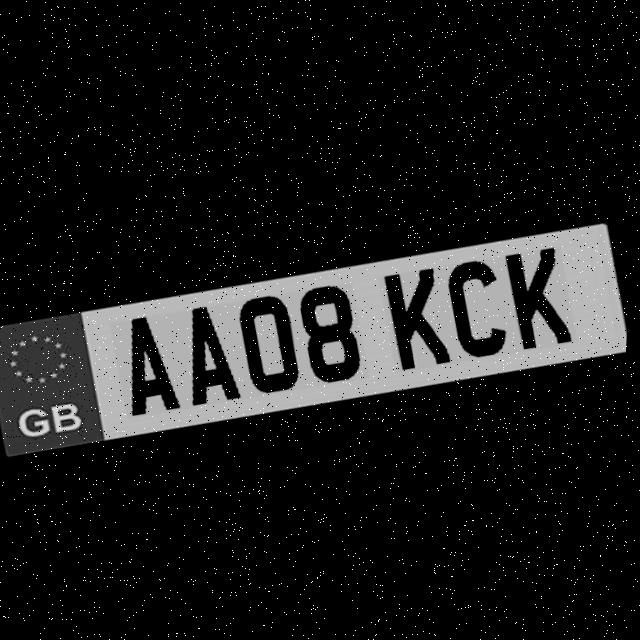license-plates: (0, 221, 627, 456)
